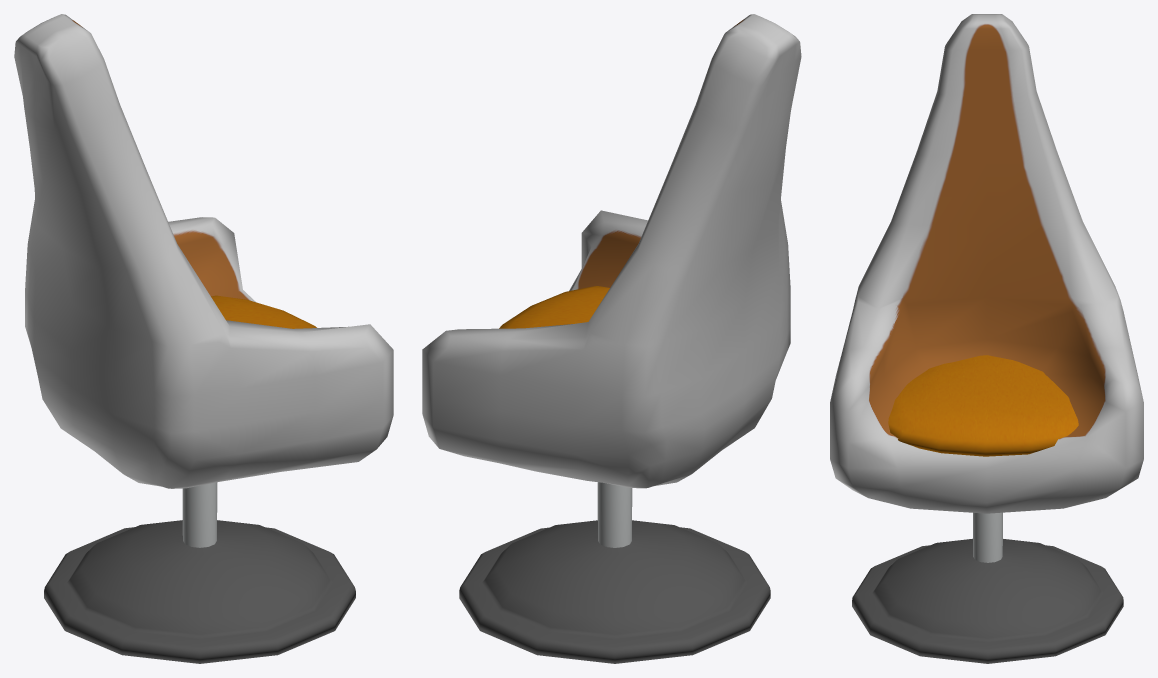
The model's file is ChairA_geo.fbx.
3 renders of one model, left to right at view 1: azimuth 30°, elevation 25°; view 2: azimuth 150°, elevation 25°; view 3: azimuth 270°, elevation 25°, orthographic. The views are drawn at different scales.
Parts seen in each view (by area): view 1: Chair_B, Chair_Stand1, Pillow; view 2: Chair_B, Chair_Stand1, Pillow; view 3: Chair_B, Chair_Stand1, Pillow.
Boxes of the visible parts, x1,y1,x2,y2 form: Chair_B: (14,14,393,488); Chair_Stand1: (44,482,355,663); Pillow: (211,295,316,328); Chair_B: (422,14,801,488); Chair_Stand1: (459,482,770,663); Pillow: (499,286,609,328); Chair_B: (830,14,1143,513); Chair_Stand1: (852,512,1123,663); Pillow: (888,355,1078,456).
Size of the model in its own units: 76.04 by 144 by 77.27.
1 material, 1 textured.
